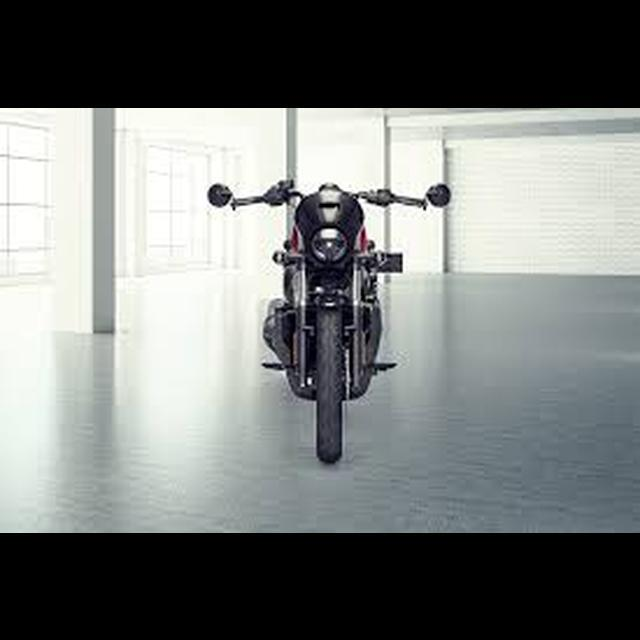motorcycle: (203, 179, 454, 469)
